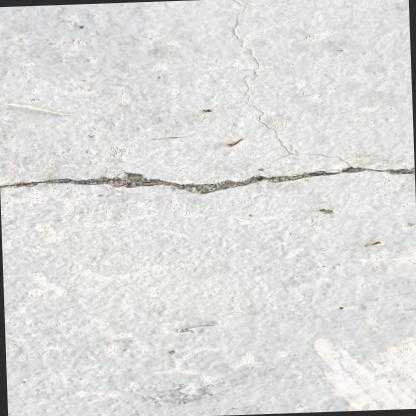crack: (0, 164, 411, 195)
